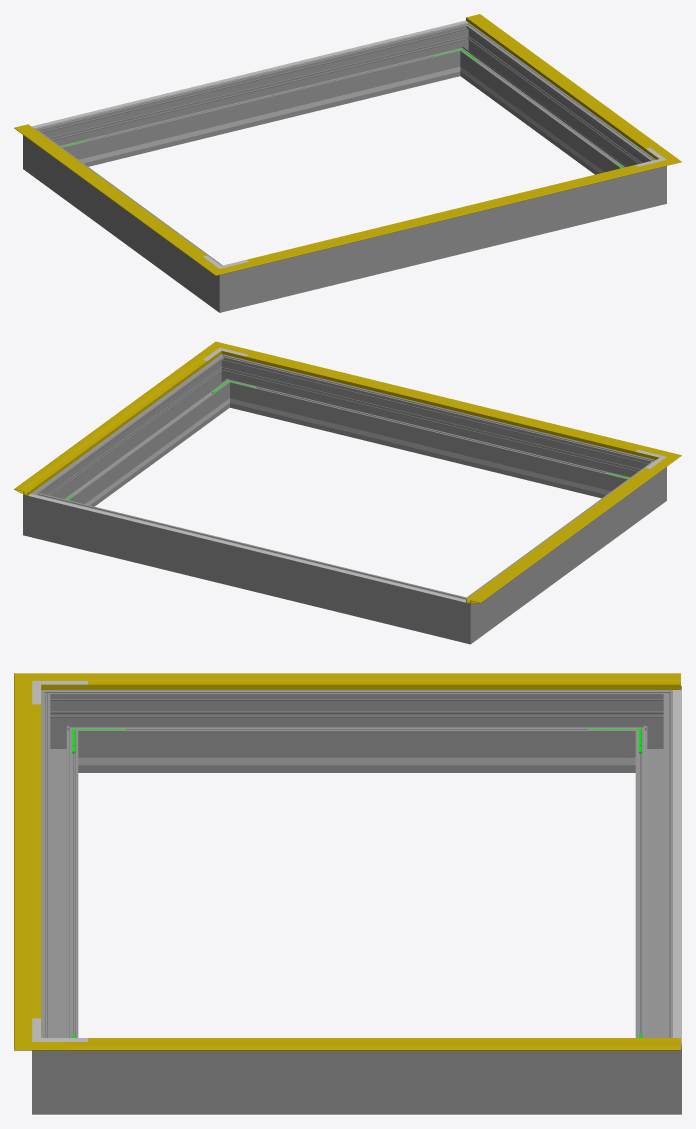
The picture shows the model from 3 angles, top to bottom: view 1: azimuth 30°, elevation 25°; view 2: azimuth 150°, elevation 25°; view 3: azimuth 270°, elevation 25°; orthographic projection. The views are drawn at different scales.
Parts seen in each view (by area): view 1: 3DGeom-276, 3DGeom-298, 3DGeom-297, 3DGeom-268, 3DGeom-141, 3DGeom-145, 3DGeom-147, 3DGeom-244, 3DGeom-270, 3DGeom-220, 3DGeom-158, 3DGeom-284 (+5 smaller); view 2: 3DGeom-298, 3DGeom-276, 3DGeom-297, 3DGeom-268, 3DGeom-141, 3DGeom-145, 3DGeom-147, 3DGeom-278, 3DGeom-239, 3DGeom-220, 3DGeom-284, 3DGeom-158 (+5 smaller); view 3: 3DGeom-268, 3DGeom-297, 3DGeom-276, 3DGeom-298, 3DGeom-147, 3DGeom-141, 3DGeom-145, 3DGeom-232, 3DGeom-284, 3DGeom-290, 3DGeom-220, 3DGeom-158 (+6 smaller).
Boxes of the visible parts, x1=… form: 3DGeom-276: x1=55, y1=28, x2=455, y2=166; 3DGeom-298: x1=248, y1=173, x2=637, y2=305; 3DGeom-297: x1=463, y1=33, x2=645, y2=174; 3DGeom-268: x1=40, y1=138, x2=211, y2=300; 3DGeom-141: x1=239, y1=164, x2=652, y2=268; 3DGeom-145: x1=466, y1=14, x2=664, y2=155; 3DGeom-147: x1=14, y1=125, x2=207, y2=263; 3DGeom-244: x1=89, y1=73, x2=432, y2=161; 3DGeom-270: x1=202, y1=257, x2=248, y2=312; 3DGeom-220: x1=31, y1=20, x2=467, y2=128; 3DGeom-158: x1=246, y1=165, x2=637, y2=261; 3DGeom-284: x1=444, y1=22, x2=482, y2=77; 3DGeom-298: x1=234, y1=360, x2=635, y2=498; 3DGeom-276: x1=52, y1=498, x2=446, y2=637; 3DGeom-297: x1=44, y1=364, x2=226, y2=506; 3DGeom-268: x1=478, y1=470, x2=650, y2=631; 3DGeom-141: x1=236, y1=348, x2=652, y2=456; 3DGeom-145: x1=14, y1=353, x2=212, y2=495; 3DGeom-147: x1=466, y1=465, x2=664, y2=603; 3DGeom-278: x1=441, y1=589, x2=487, y2=644; 3DGeom-239: x1=258, y1=405, x2=600, y2=493; 3DGeom-220: x1=28, y1=494, x2=465, y2=602; 3DGeom-284: x1=23, y1=483, x2=57, y2=542; 3DGeom-158: x1=246, y1=355, x2=637, y2=451; 3DGeom-268: x1=87, y1=690, x2=626, y2=772; 3DGeom-297: x1=87, y1=1050, x2=626, y2=1114; 3DGeom-276: x1=635, y1=709, x2=672, y2=1037; 3DGeom-298: x1=41, y1=709, x2=78, y2=1037; 3DGeom-147: x1=69, y1=673, x2=680, y2=689; 3DGeom-141: x1=14, y1=696, x2=41, y2=1025; 3DGeom-145: x1=69, y1=1042, x2=680, y2=1050; 3DGeom-232: x1=132, y1=757, x2=581, y2=765; 3DGeom-284: x1=626, y1=1023, x2=681, y2=1114; 3DGeom-290: x1=32, y1=1023, x2=87, y2=1114; 3DGeom-220: x1=673, y1=689, x2=681, y2=1043; 3DGeom-158: x1=32, y1=704, x2=40, y2=1018.
Bounding box in the file's own units: 2.44 × 0.2195 × 1.83.
